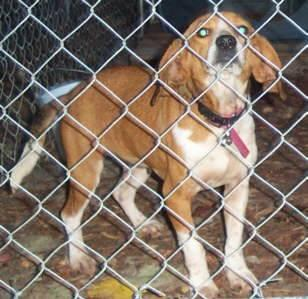dog: (10, 11, 281, 298)
